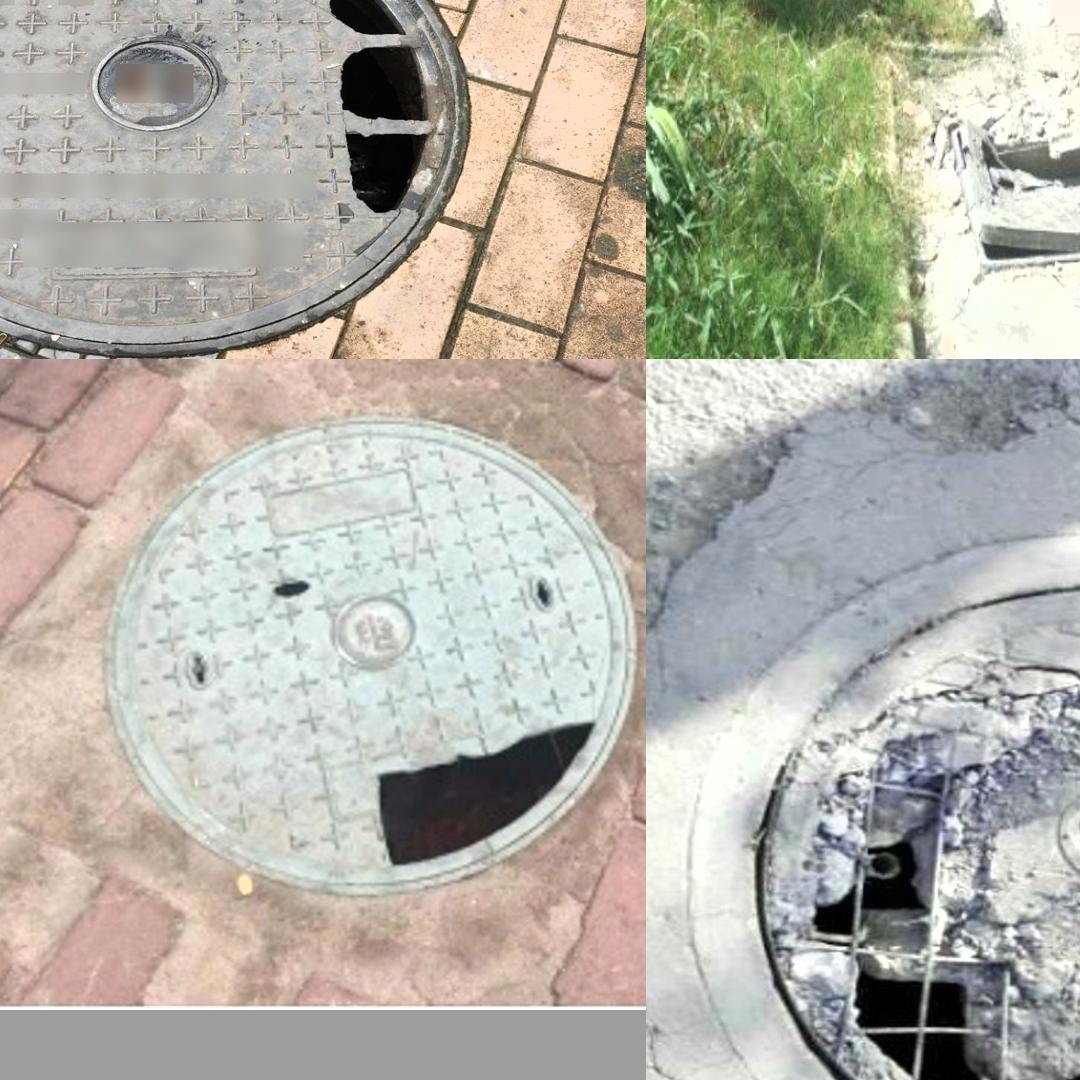broke: (114, 427, 607, 876), (686, 534, 1080, 1080), (0, 0, 452, 341), (938, 102, 1080, 249)
